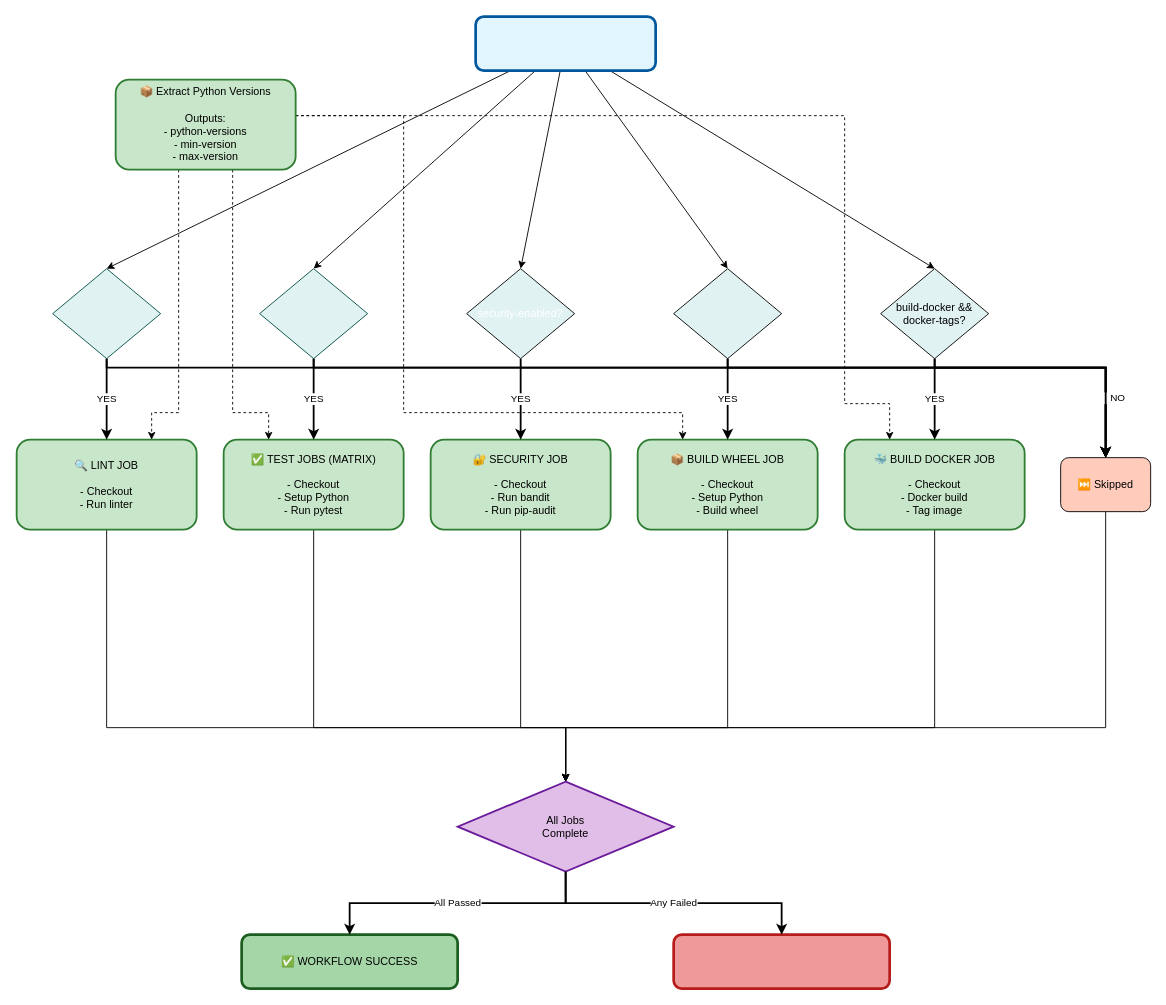
The diagram is 1166 pixels wide and 1005 high, and some of its shapes have lost their labels. Here are the shapes that lost their labels. From the top down, the centre of each, then its label:
At pixel 565 43: "🚀 Workflow Triggered".
At pixel 106 313: "lint-enabled?".
At pixel 313 313: "tests-enabled?".
At pixel 727 313: "build-wheel-enabled?".
At pixel 781 961: "❌ WORKFLOW FAILED".
